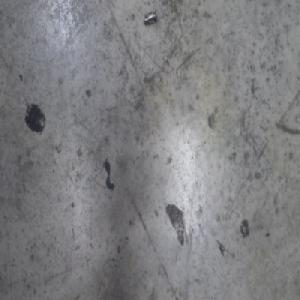Bolt: (142, 8, 157, 26)
